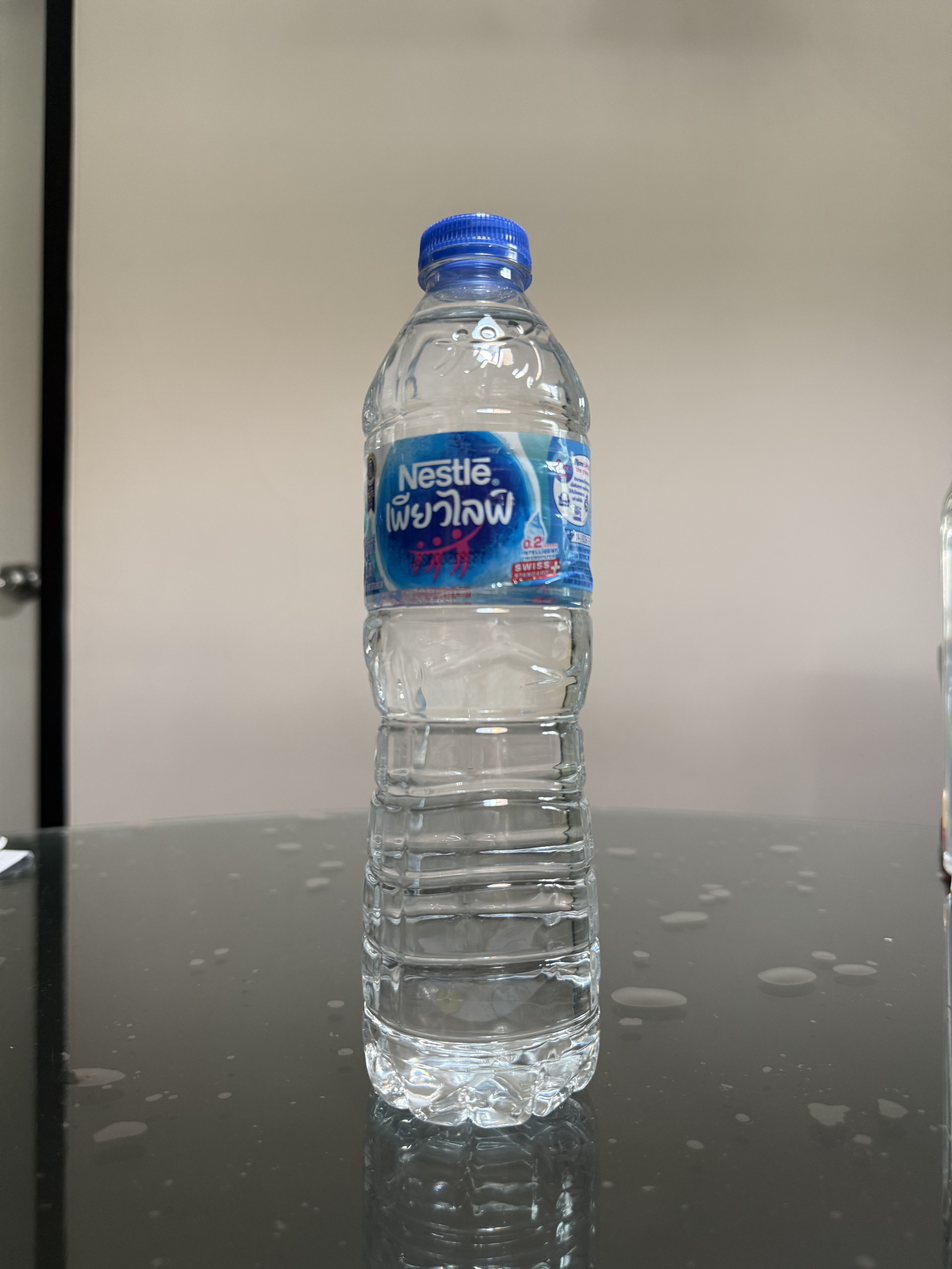closed_cap: (415, 209, 534, 292)
